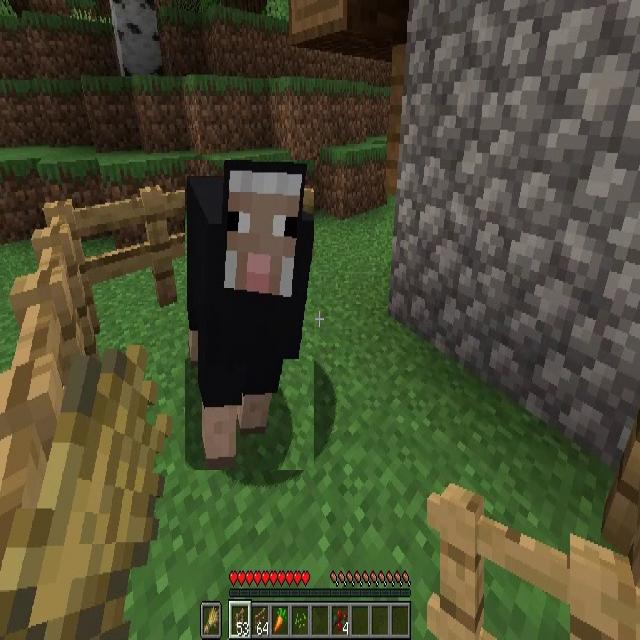sheep: (185, 160, 314, 470)
